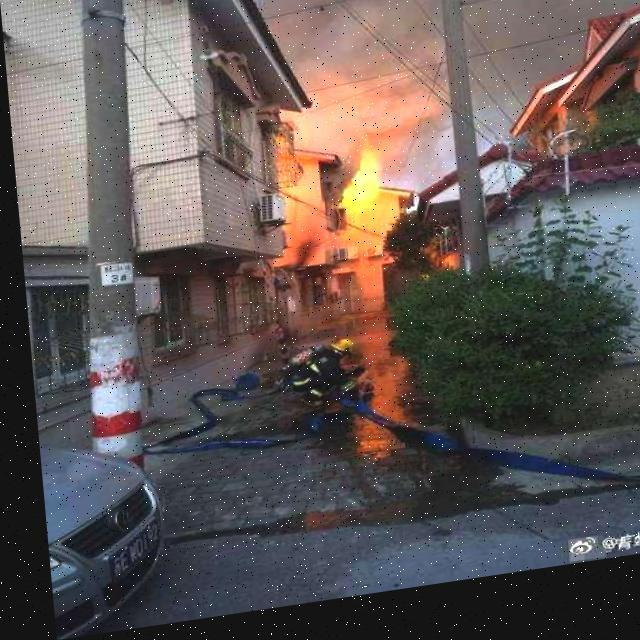Fire: (331, 156, 382, 224)
